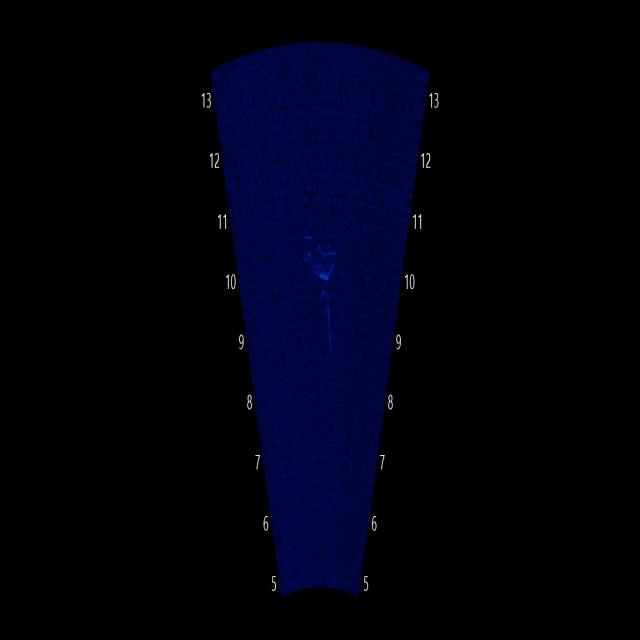circle: (302, 211, 344, 293)
